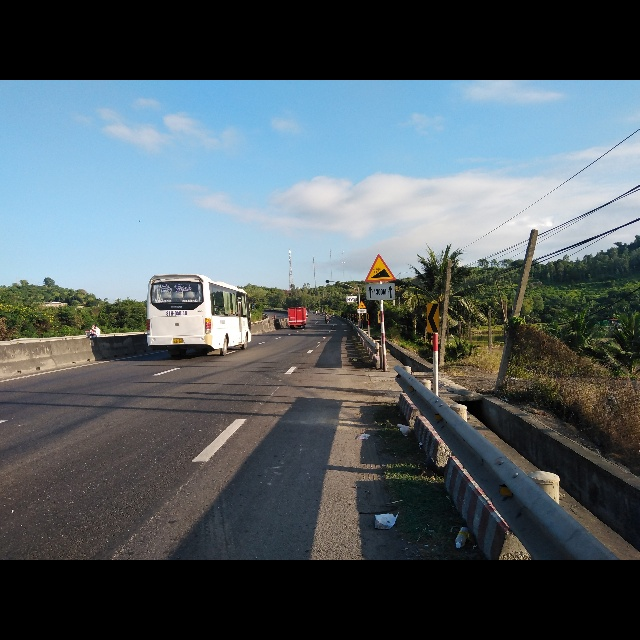Dốc lên nguy hiểm: (365, 252, 397, 282)
